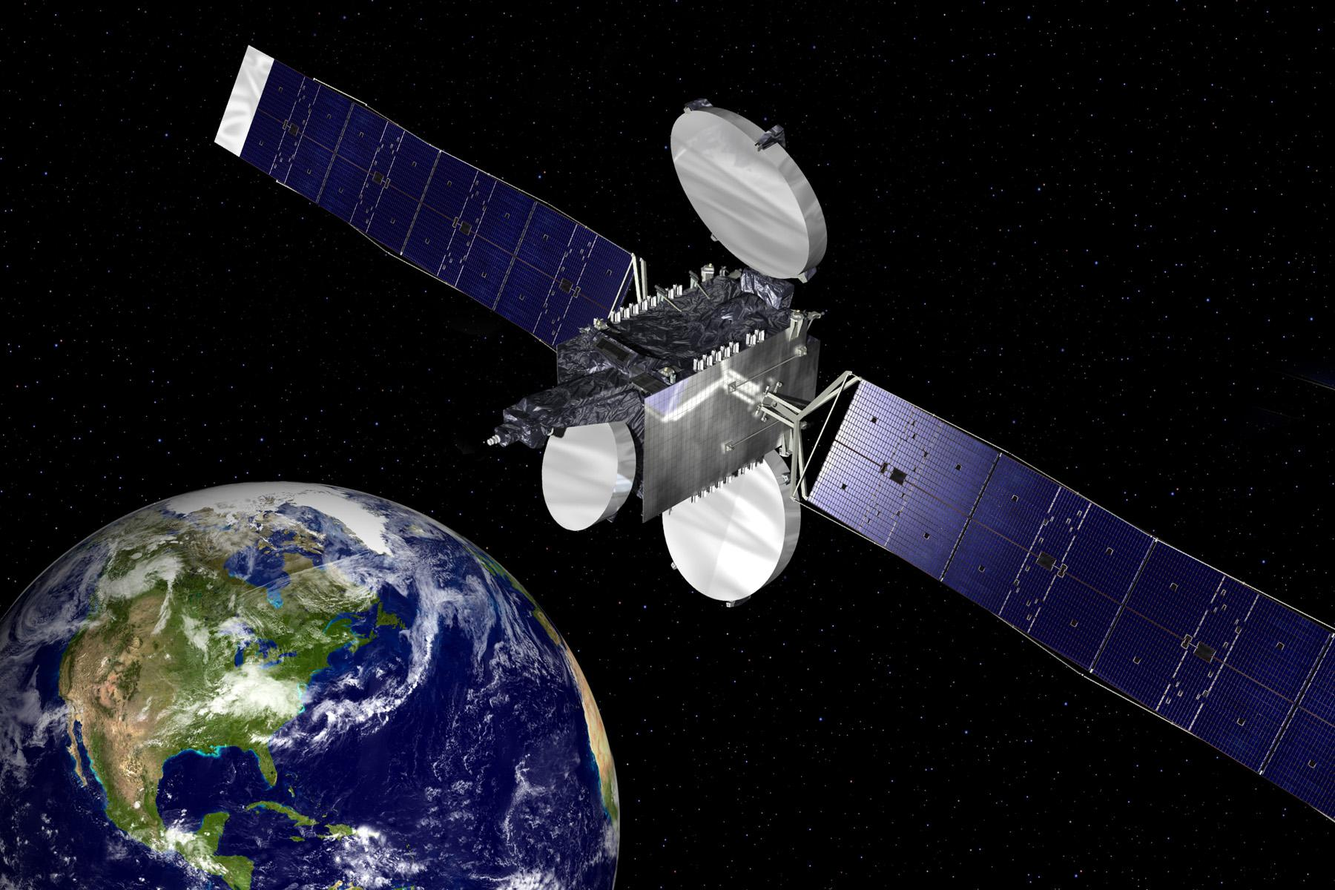antenna: (668, 96, 830, 285), (661, 447, 803, 610), (540, 420, 639, 534)
body: (553, 260, 825, 525)
solar: (804, 377, 1335, 825), (211, 42, 635, 351)
